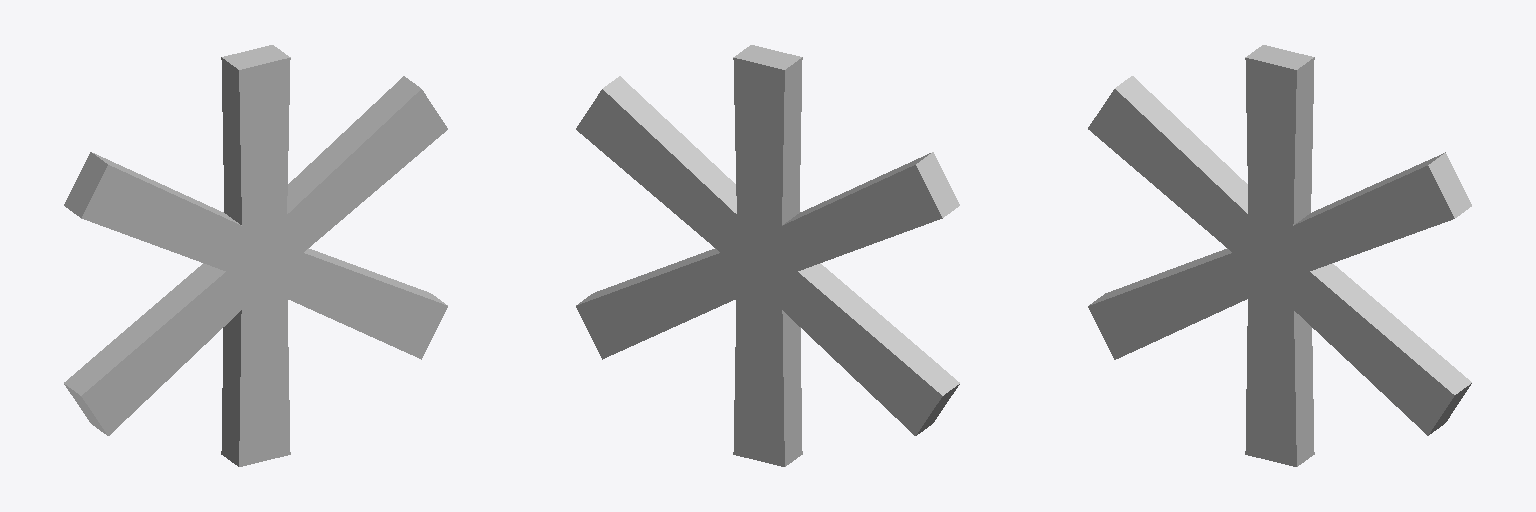
File: star.obj
3 renders of one model, left to right at view 1: azimuth 30°, elevation 25°; view 2: azimuth 150°, elevation 25°; view 3: azimuth 330°, elevation 25°, orthographic.
Visible parts, largest first — view 1: Solid1; view 2: Solid1; view 3: Solid1.
Boxes of the visible parts, box(x1,y1,x2,y2) form: Solid1: box(64, 45, 447, 466); Solid1: box(576, 45, 959, 466); Solid1: box(1088, 45, 1471, 466).
Size of the model in its own units: 0.6013 by 0.6216 by 0.05.